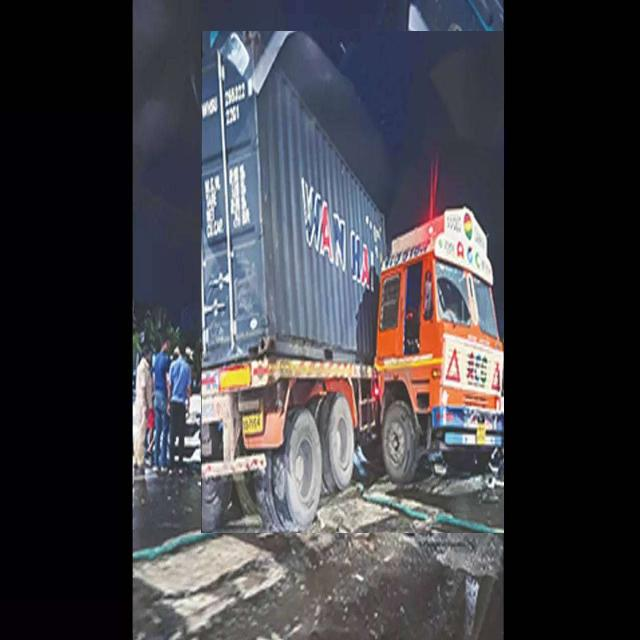accident: (201, 31, 504, 533)
